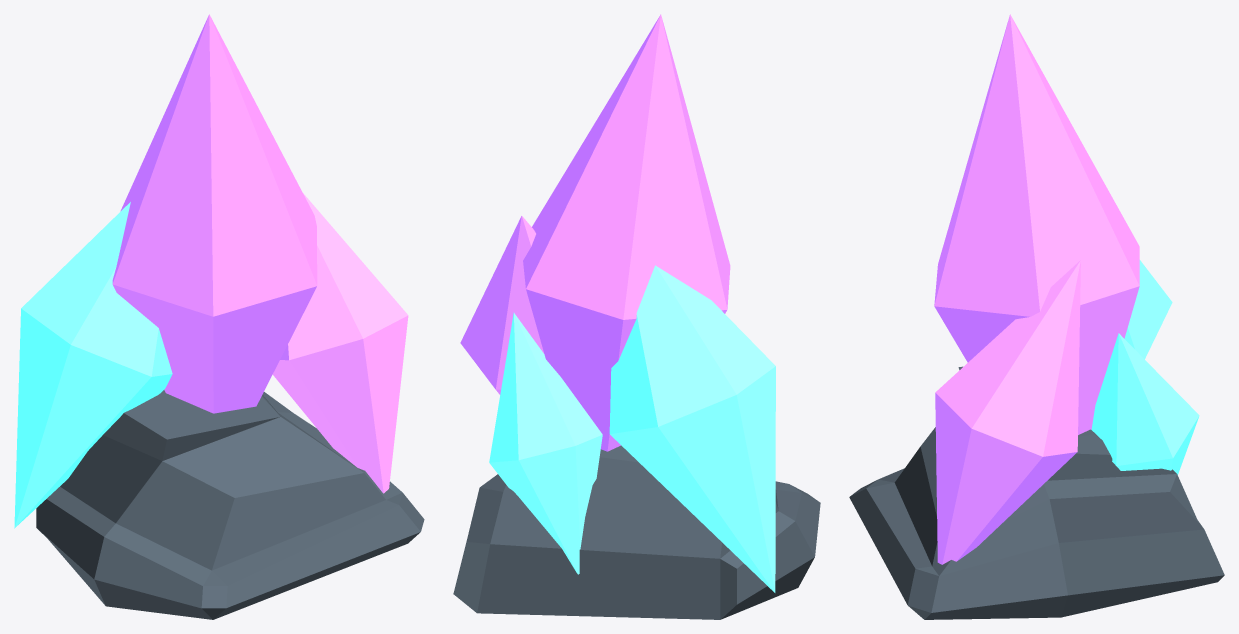
File: env_crystal.glb
3 renders of one model, left to right at view 1: azimuth 30°, elevation 25°; view 2: azimuth 150°, elevation 25°; view 3: azimuth 270°, elevation 25°, orthographic.
Parts seen in each view (by area): view 1: Rock_Moss_2, Crystal_glow, Crystal_glow.001, Crystal_glow.002; view 2: Crystal_glow, Rock_Moss_2, Crystal_glow.001, Crystal_glow.003, Crystal_glow.002; view 3: Rock_Moss_2, Crystal_glow, Crystal_glow.002, Crystal_glow.003, Crystal_glow.001.
Boxes of the visible parts, x1,y1,x2,y2 form: Rock_Moss_2: (36,390,424,619); Crystal_glow: (112,14,317,413); Crystal_glow.001: (14,202,172,528); Crystal_glow.002: (272,193,408,493); Crystal_glow: (523,14,730,451); Rock_Moss_2: (453,445,820,619); Crystal_glow.001: (609,265,775,592); Crystal_glow.003: (489,312,602,574); Crystal_glow.002: (460,216,544,394); Rock_Moss_2: (849,366,1224,619); Crystal_glow: (934,14,1139,434); Crystal_glow.002: (935,260,1080,564); Crystal_glow.003: (1091,333,1199,474); Crystal_glow.001: (1124,260,1172,359).
Size of the model in its own units: 0.7986 by 1.25 by 0.78.
